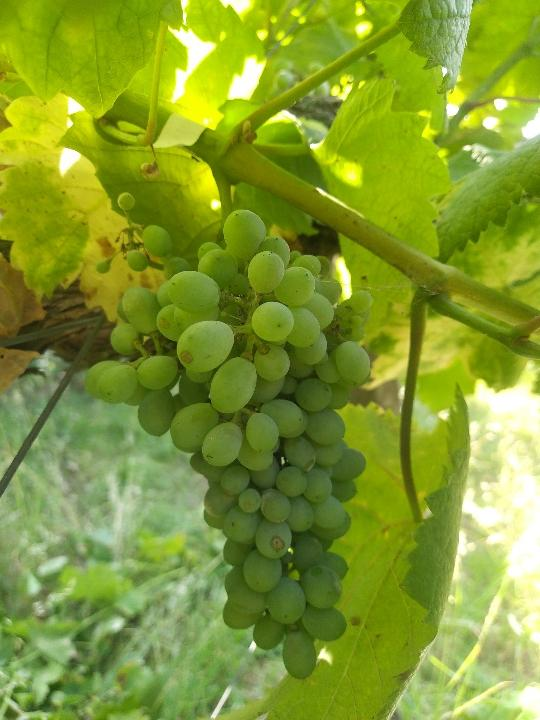grape: (78, 190, 377, 688)
